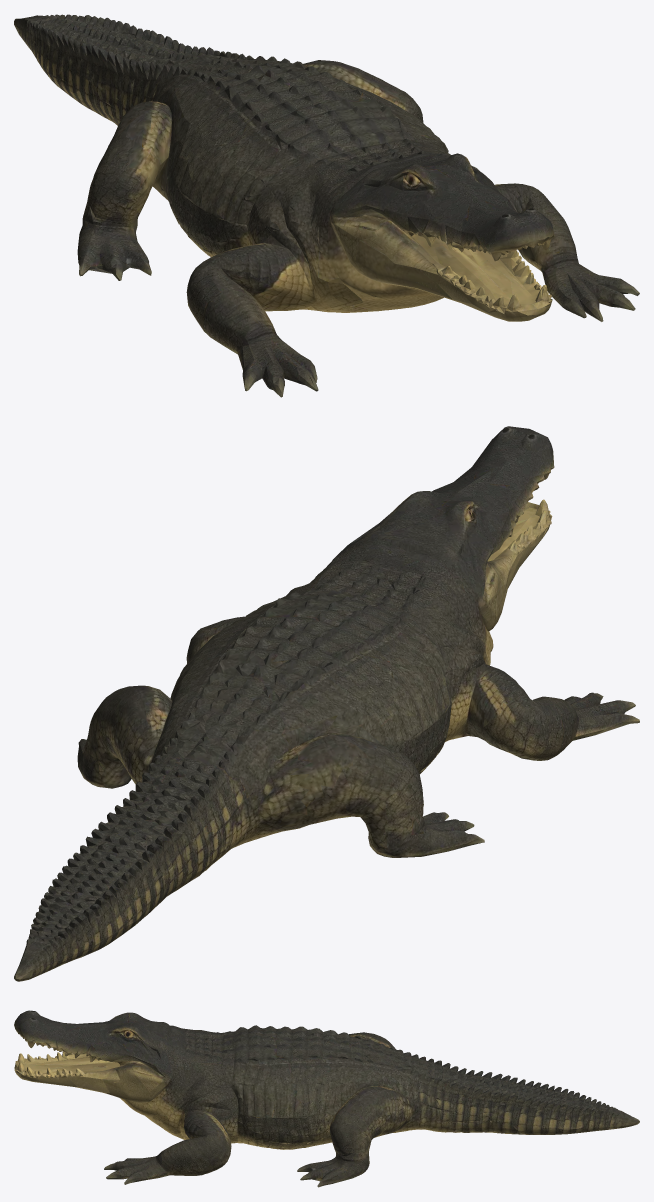
Rendered from fauna_croc.glb.
3 renders of one model, top to bottom at view 1: azimuth 30°, elevation 25°; view 2: azimuth 150°, elevation 25°; view 3: azimuth 270°, elevation 25°, orthographic. The views are drawn at different scales.
Size of the model in its own units: 0.8566 by 0.3818 by 1.9.
1 material, 1 textured.
